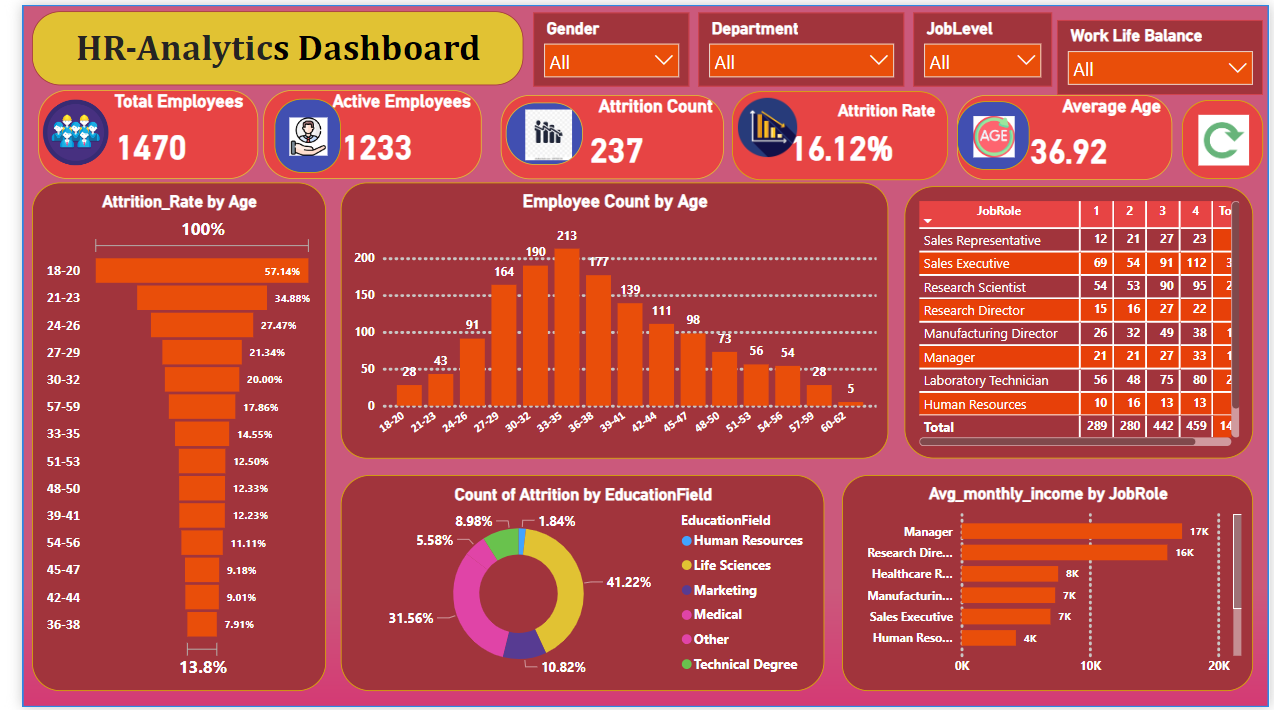

The dashboard page shown, as its layout file describes it:
{"tool":"powerbi","page":{"name":"report","canvas":[1280,720],"ordinal":2},"visuals":[{"type":"textbox","box":[10.3,6.4,503.8,75.6],"z":0},{"type":"card","title":"Attrition Count","fields":{"Values":["Key_Metrics (2).Attrition_count"]},"box":[491.4,92.3,228.8,86.7],"z":1000},{"type":"image","box":[496.2,100,79.5,64.1],"z":2000},{"type":"card","title":"Average Age","fields":{"Values":["Key_Metrics (2).Avg_age_Employees"]},"box":[959,92.3,220.5,87.2],"z":3000},{"type":"slicer","title":"Gender","fields":{"Values":["HR Analytics Data.Gender"]},"box":[524.4,7.7,160.3,75.6],"z":4000},{"type":"slicer","fields":{"Values":["HR Analytics Data.Department"]},"box":[693.6,7.7,211.5,75.6],"z":5000},{"type":"slicer","fields":{"Values":["HR Analytics Data.JobLevel"]},"box":[914.1,7.7,142.3,75.6],"z":6000},{"type":"card","title":"Total Employees","fields":{"Values":["CountNonNull(HR Analytics Data.Attrition)"]},"box":[16.7,87.2,225.6,91],"z":7000},{"type":"image","box":[10.8,91.9,89.2,77],"z":8000},{"type":"card","title":"Active Employees","fields":{"Values":["Key_Metrics (2).Active EMP"]},"box":[247.4,87.2,224.4,91],"z":9000},{"type":"card","title":"Attrition Rate","fields":{"Values":["Key_Metrics (2).Attrition_rate"]},"box":[728.2,88.5,221.8,91],"z":10000},{"type":"image","box":[259,96.2,67.9,75.6],"z":11000},{"type":"image","box":[729.5,87.2,70.5,76.9],"z":12000},{"type":"image","box":[959,98.7,74.4,70.5],"z":13000},{"type":"funnel","title":"Attrition_Rate by Age","fields":{"Y":["Key_Metrics (2).Attrition_rate"],"Category":["HR Analytics Data.Age Bin"]},"box":[10.3,182.1,301.3,521.8],"z":14000},{"type":"clusteredColumnChart","title":"Employee Count by Age","fields":{"Category":["HR Analytics Data.Age Bin"],"Y":["CountNonNull(HR Analytics Data.EmployeeCount)"]},"box":[326.9,182.2,547.7,283.5],"z":15000},{"type":"donutChart","fields":{"Y":["CountNonNull(HR Analytics Data.Attrition)"],"Series":["HR Analytics Data.EducationField"]},"box":[326.9,482.1,496.2,221.8],"z":16000},{"type":"clusteredBarChart","fields":{"Category":["HR Analytics Data.JobRole"],"Y":["Key_Metrics (2).Avg_monthly_income"]},"box":[841,482.1,421.8,221.8],"z":17000},{"type":"pivotTable","fields":{"Rows":["HR Analytics Data.JobRole"],"Columns":["HR Analytics Data.JobSatisfaction"],"Values":["CountNonNull(HR Analytics Data.JobSatisfaction)"]},"box":[887.9,185.8,375.2,279.9],"z":18000},{"type":"image","box":[1189.7,97.4,83.3,80.8],"z":19000},{"type":"slicer","fields":{"Values":["HR Analytics Data.WorkLifeBalance"]},"box":[1061.7,4.8,211.1,77.2],"z":20000}]}

Visuals, with their boxes in screenshot pixels (x1, y1, x2, y2), scaled from the page's 1280x720 canvas onto the 1274x710 screenshot:
textbox: rect(10, 6, 512, 81)
"Attrition Count" card: rect(489, 91, 717, 177)
image: rect(494, 99, 573, 162)
"Average Age" card: rect(955, 91, 1174, 177)
"Gender" slicer: rect(522, 8, 681, 82)
slicer - HR Analytics Data.Department: rect(690, 8, 901, 82)
slicer - HR Analytics Data.JobLevel: rect(910, 8, 1051, 82)
"Total Employees" card: rect(17, 86, 241, 176)
image: rect(11, 91, 100, 167)
"Active Employees" card: rect(246, 86, 470, 176)
"Attrition Rate" card: rect(725, 87, 946, 177)
image: rect(258, 95, 325, 169)
image: rect(726, 86, 796, 162)
image: rect(955, 97, 1029, 167)
"Attrition_Rate by Age" funnel: rect(10, 180, 310, 694)
"Employee Count by Age" clusteredColumnChart: rect(325, 180, 871, 459)
donutChart - CountNonNull(HR Analytics Data.Attrition) x HR Analytics Data.EducationField: rect(325, 475, 819, 694)
clusteredBarChart - HR Analytics Data.JobRole x Key_Metrics (2).Avg_monthly_income: rect(837, 475, 1257, 694)
pivotTable - HR Analytics Data.JobRole x HR Analytics Data.JobSatisfaction: rect(884, 183, 1257, 459)
image: rect(1184, 96, 1267, 176)
slicer - HR Analytics Data.WorkLifeBalance: rect(1057, 5, 1267, 81)
